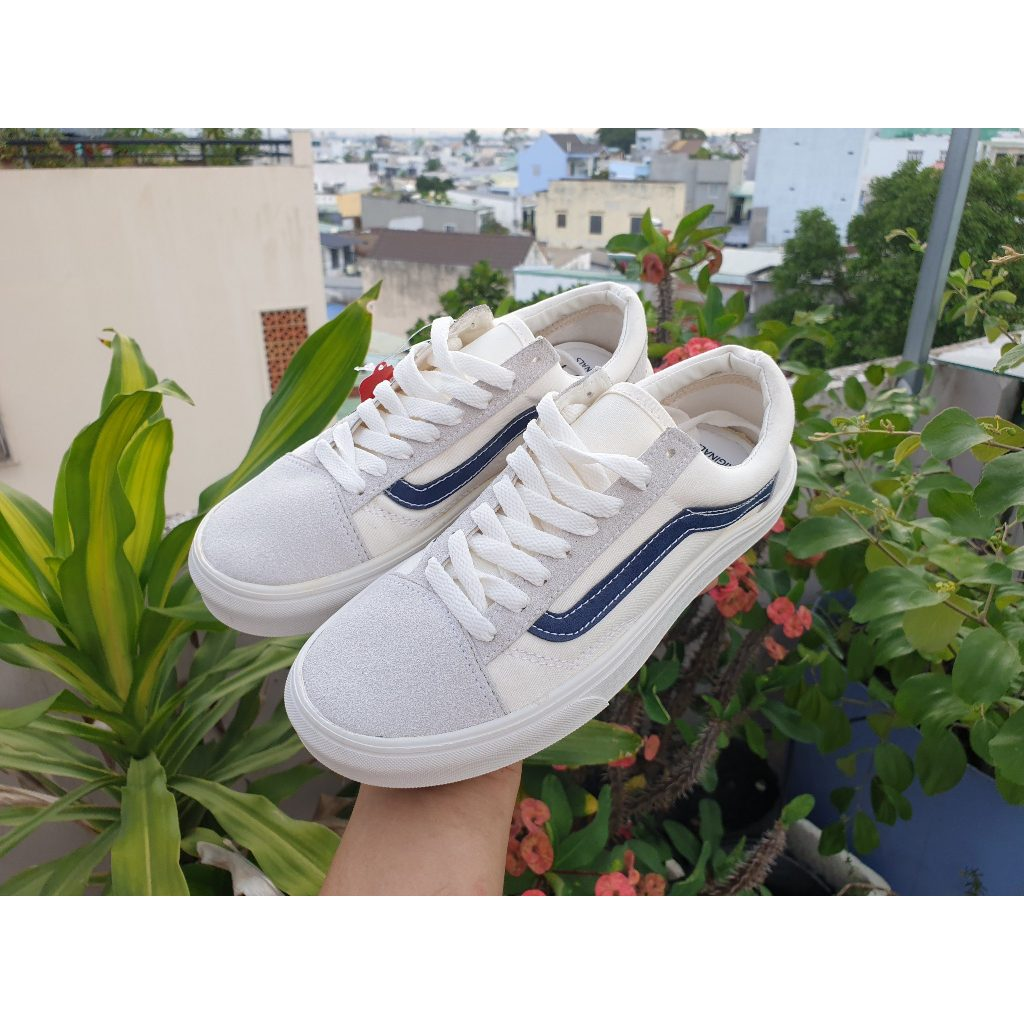sneakers: (284, 343, 802, 788), (186, 276, 655, 636)
